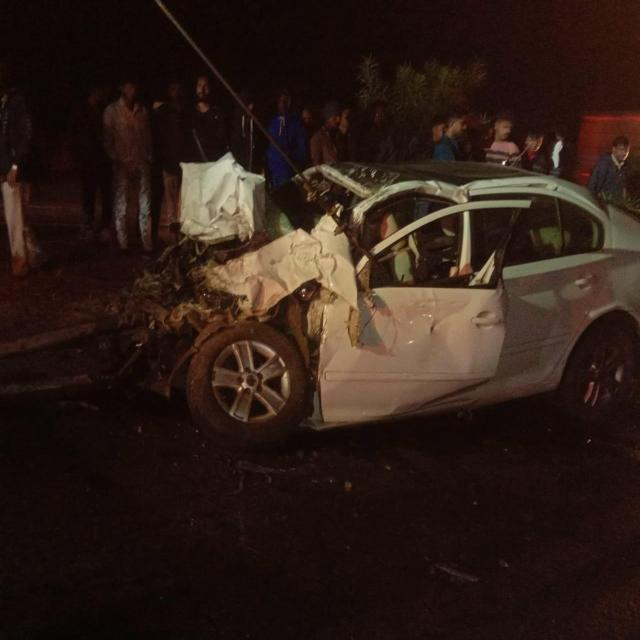accident: (0, 155, 640, 449)
